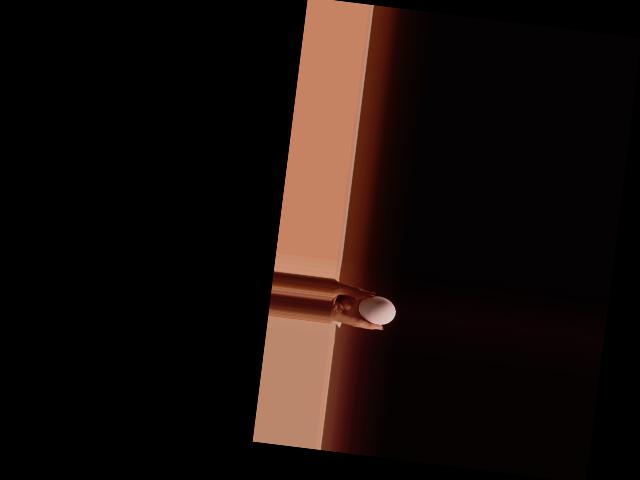egg: (356, 293, 397, 326)
